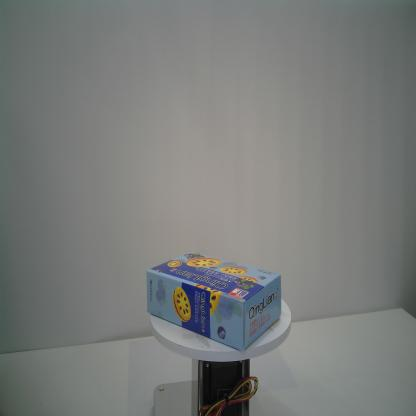Dessert: (145, 250, 283, 351)
